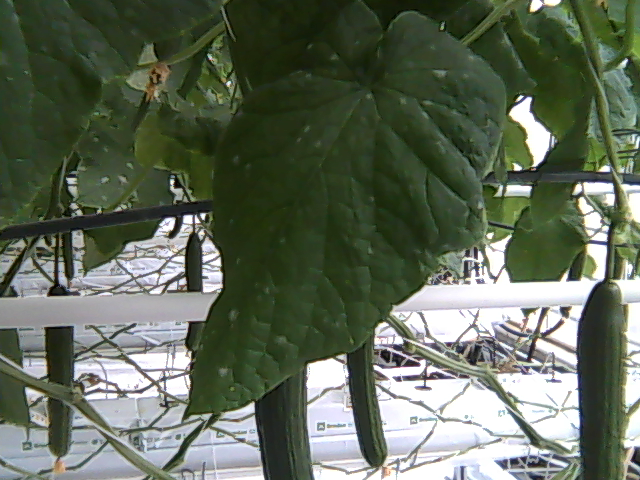concombre: (573, 263, 631, 480), (254, 361, 316, 480)
